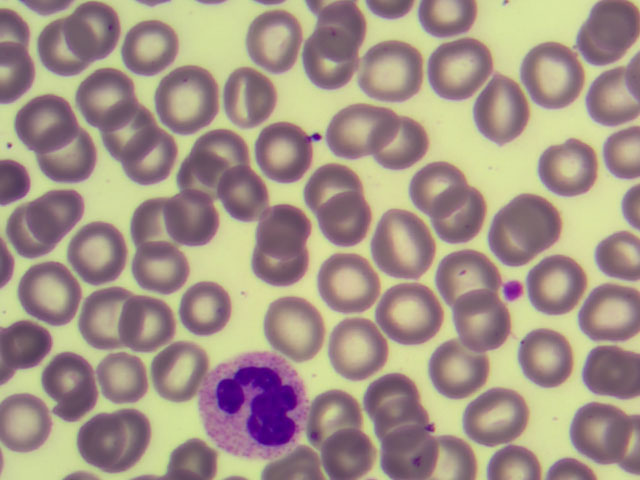Platelets: (503, 280, 524, 302), (310, 130, 323, 143)
RBC: (473, 72, 530, 146), (18, 261, 81, 324), (67, 219, 130, 282), (534, 133, 597, 196), (364, 39, 427, 102), (577, 279, 640, 342), (429, 35, 492, 98), (426, 333, 489, 396), (465, 381, 528, 444), (332, 96, 395, 159), (520, 42, 583, 105), (76, 68, 139, 131), (33, 121, 96, 184), (370, 212, 433, 275), (378, 283, 441, 346), (155, 68, 218, 131), (82, 285, 145, 348), (95, 403, 153, 471), (264, 298, 324, 361), (298, 30, 363, 87), (17, 96, 82, 153), (319, 250, 376, 315), (331, 315, 388, 380), (36, 17, 100, 74), (526, 255, 585, 316), (407, 158, 465, 219), (254, 122, 311, 183), (453, 289, 510, 350), (517, 327, 575, 386), (428, 182, 485, 242), (572, 401, 627, 463), (380, 420, 436, 480), (8, 194, 62, 256), (1, 388, 53, 451), (439, 251, 498, 306), (312, 1, 364, 63), (192, 127, 248, 184), (369, 113, 427, 168), (165, 186, 219, 245), (121, 128, 178, 183), (247, 12, 303, 67), (255, 203, 309, 259), (66, 2, 118, 59), (319, 187, 368, 247), (321, 427, 376, 480), (153, 345, 204, 401), (28, 189, 85, 239), (583, 1, 640, 46), (578, 13, 628, 64), (312, 390, 361, 442), (125, 22, 175, 72), (222, 165, 267, 220), (182, 279, 228, 332), (514, 192, 560, 245), (591, 68, 637, 121), (137, 238, 183, 291), (134, 197, 180, 250), (585, 341, 631, 394), (377, 395, 428, 442), (81, 412, 126, 465), (97, 352, 145, 401), (251, 247, 314, 284), (367, 374, 419, 418), (44, 352, 98, 394), (7, 319, 47, 374), (417, 1, 478, 37), (596, 230, 640, 279), (1, 40, 35, 103), (490, 210, 531, 262), (428, 435, 475, 480), (166, 439, 216, 480), (602, 126, 639, 178), (56, 376, 102, 416), (492, 444, 542, 480), (267, 446, 318, 480), (1, 8, 32, 55), (614, 417, 639, 475), (547, 454, 600, 480), (1, 317, 22, 378), (616, 346, 640, 398), (1, 160, 27, 205), (620, 179, 640, 234), (365, 1, 417, 21)
WBC: (200, 348, 307, 455)
